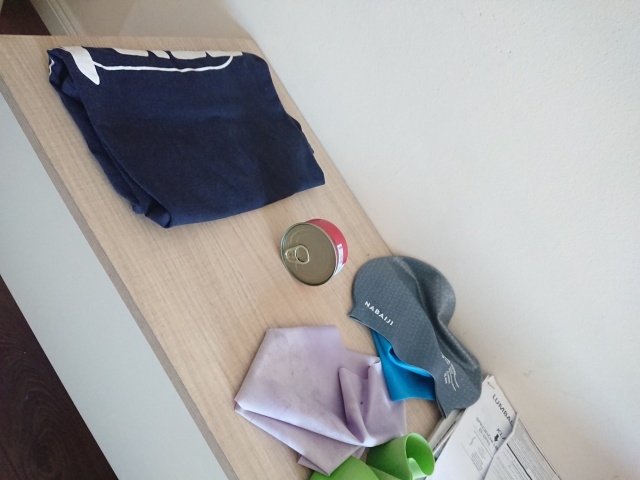Gavrilovic Pork Liver Pate 100g: (278, 216, 350, 288)
